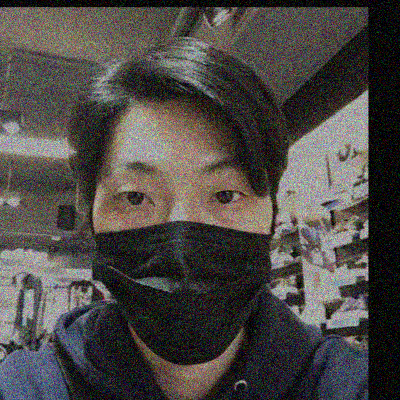with_mask: (89, 152, 273, 363)
